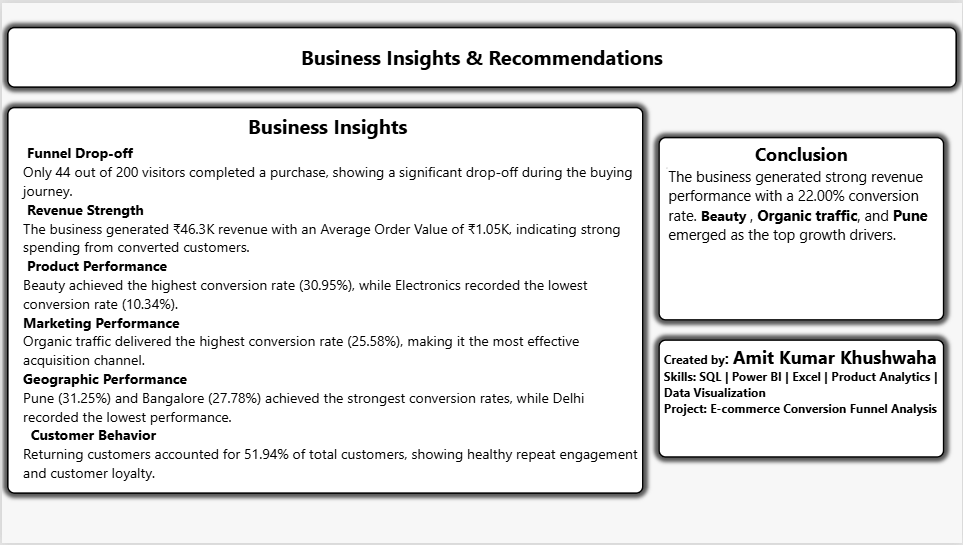

The dashboard page shown, as its layout file describes it:
{"tool":"powerbi","page":{"name":"Business Insights & Recommendations","canvas":[3840,2160],"ordinal":4},"visuals":[{"type":"textbox","box":[320,47.5,1472.5,92.5],"z":0},{"type":"shape","box":[20,95,3800,245],"z":1000},{"type":"textbox","box":[21.8,414.4,2546.6,1548.7],"z":2000},{"type":"textbox","box":[2622.9,534.4,1145.1,736.2],"z":3000},{"type":"textbox","box":[2622.9,1346.9,1145.1,474.4],"z":5000}]}

Visuals, with their boxes in screenshot pixels (x1, y1, x2, y2), scaled from the page's 3840x2160 canvas onto the 963x545 screenshot:
textbox: rect(80, 12, 450, 35)
shape: rect(5, 24, 958, 86)
textbox: rect(5, 105, 644, 495)
textbox: rect(658, 135, 945, 321)
textbox: rect(658, 340, 945, 460)
